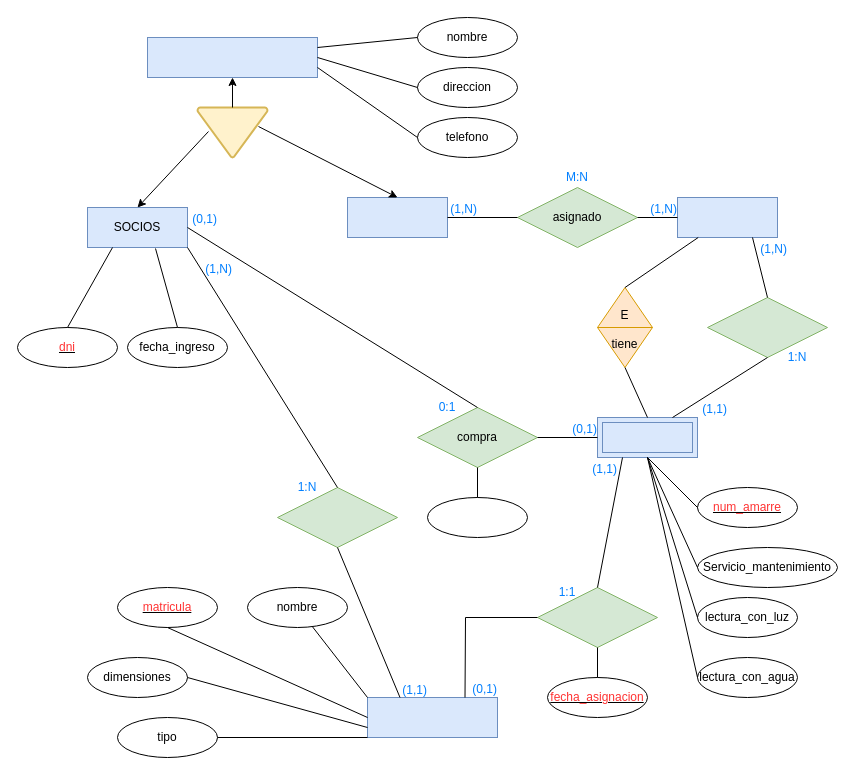
The diagram is 855 pixels wide and 775 high, and some of its shapes have lost their labels. Here are the shapes that lost their labels. From the top down, the box of each, then its label:
(146, 36, 318, 78): DATOS_PERSONALES
(346, 196, 448, 238): EMPLEADOS
(676, 196, 778, 238): ZONAS
(706, 296, 828, 358): tiene
(596, 416, 698, 458): AMARRES
(276, 486, 398, 548): pertenece
(426, 496, 528, 538): fecha_compra
(536, 586, 658, 648): ocupa
(366, 696, 498, 738): EMBARCACIONES
